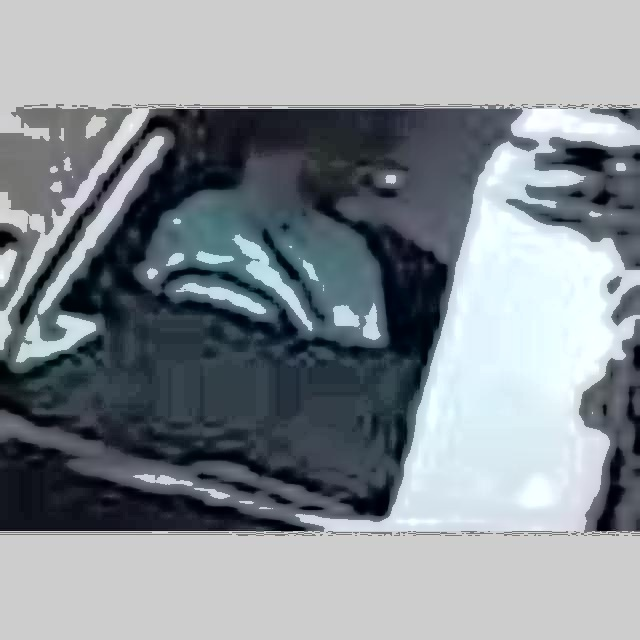pakai: (141, 141, 390, 378)
